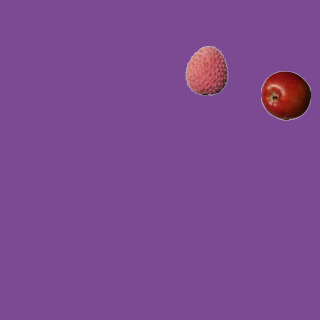Apple Braeburn: (260, 70, 310, 120)
Lychee: (181, 45, 231, 95)
